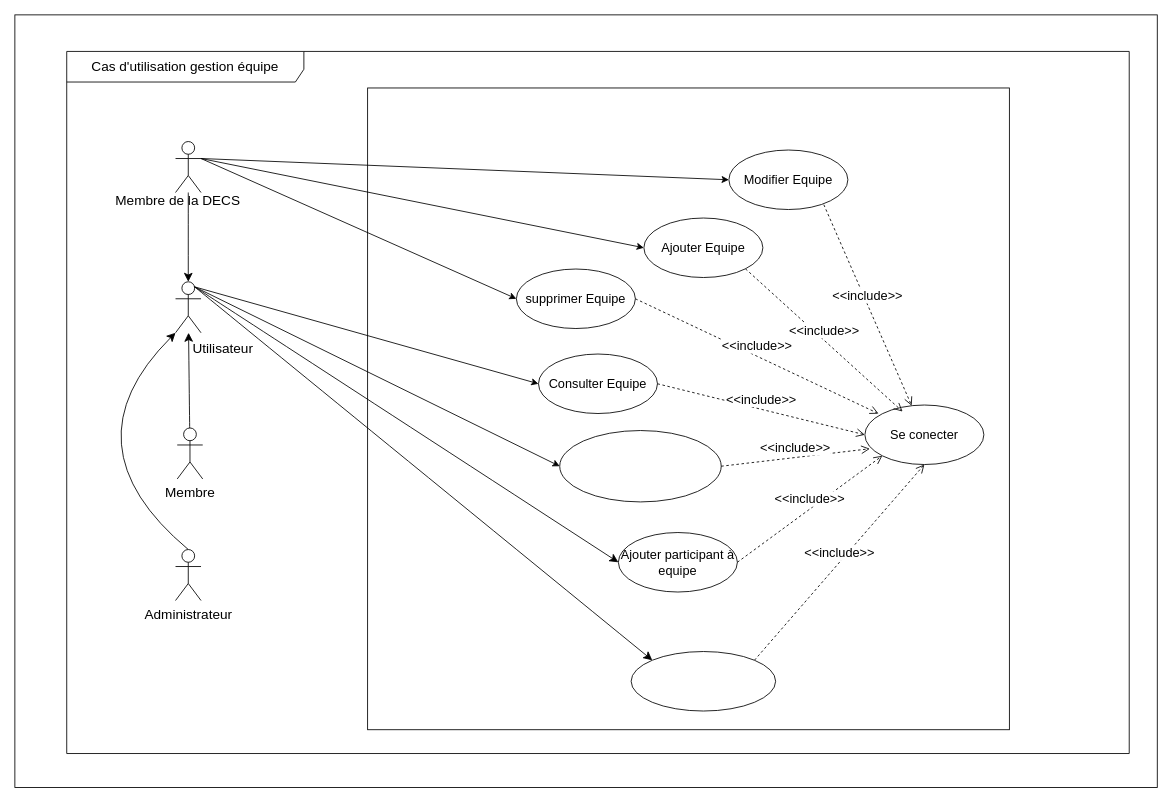
This 1172x802 diagram has some shape labels left out. Each missing label, with the centre of its shape:
"Enleverparticipant de equipe" belongs at pixel 703 681.
"télécharger rapport sur Equipe" belongs at pixel 640 466.
